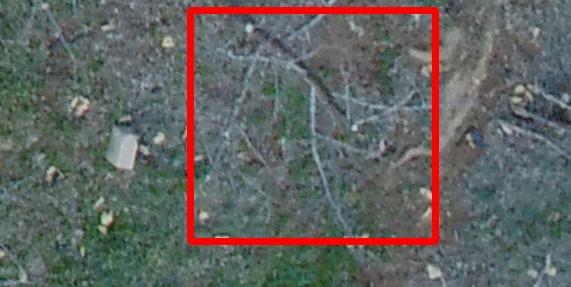apple: (190, 10, 435, 241)
